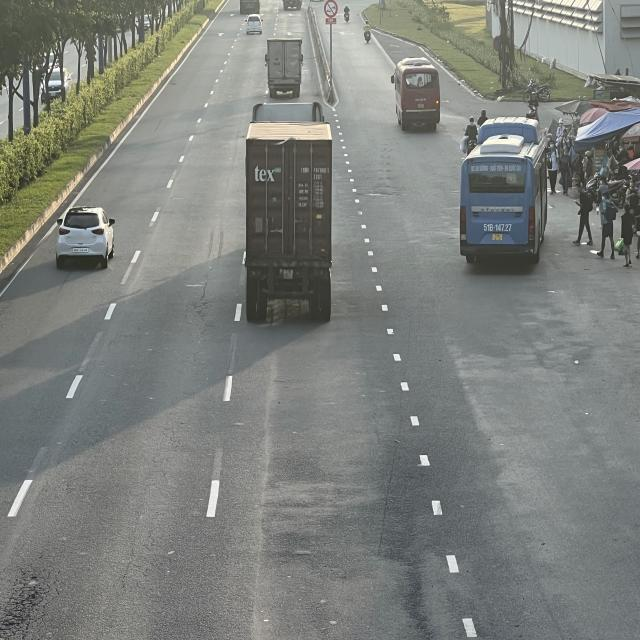car: (53, 205, 114, 268), (246, 13, 263, 35)
coach: (460, 140, 550, 268), (394, 56, 442, 130)
container: (243, 107, 334, 320)
truck: (265, 36, 304, 98)
